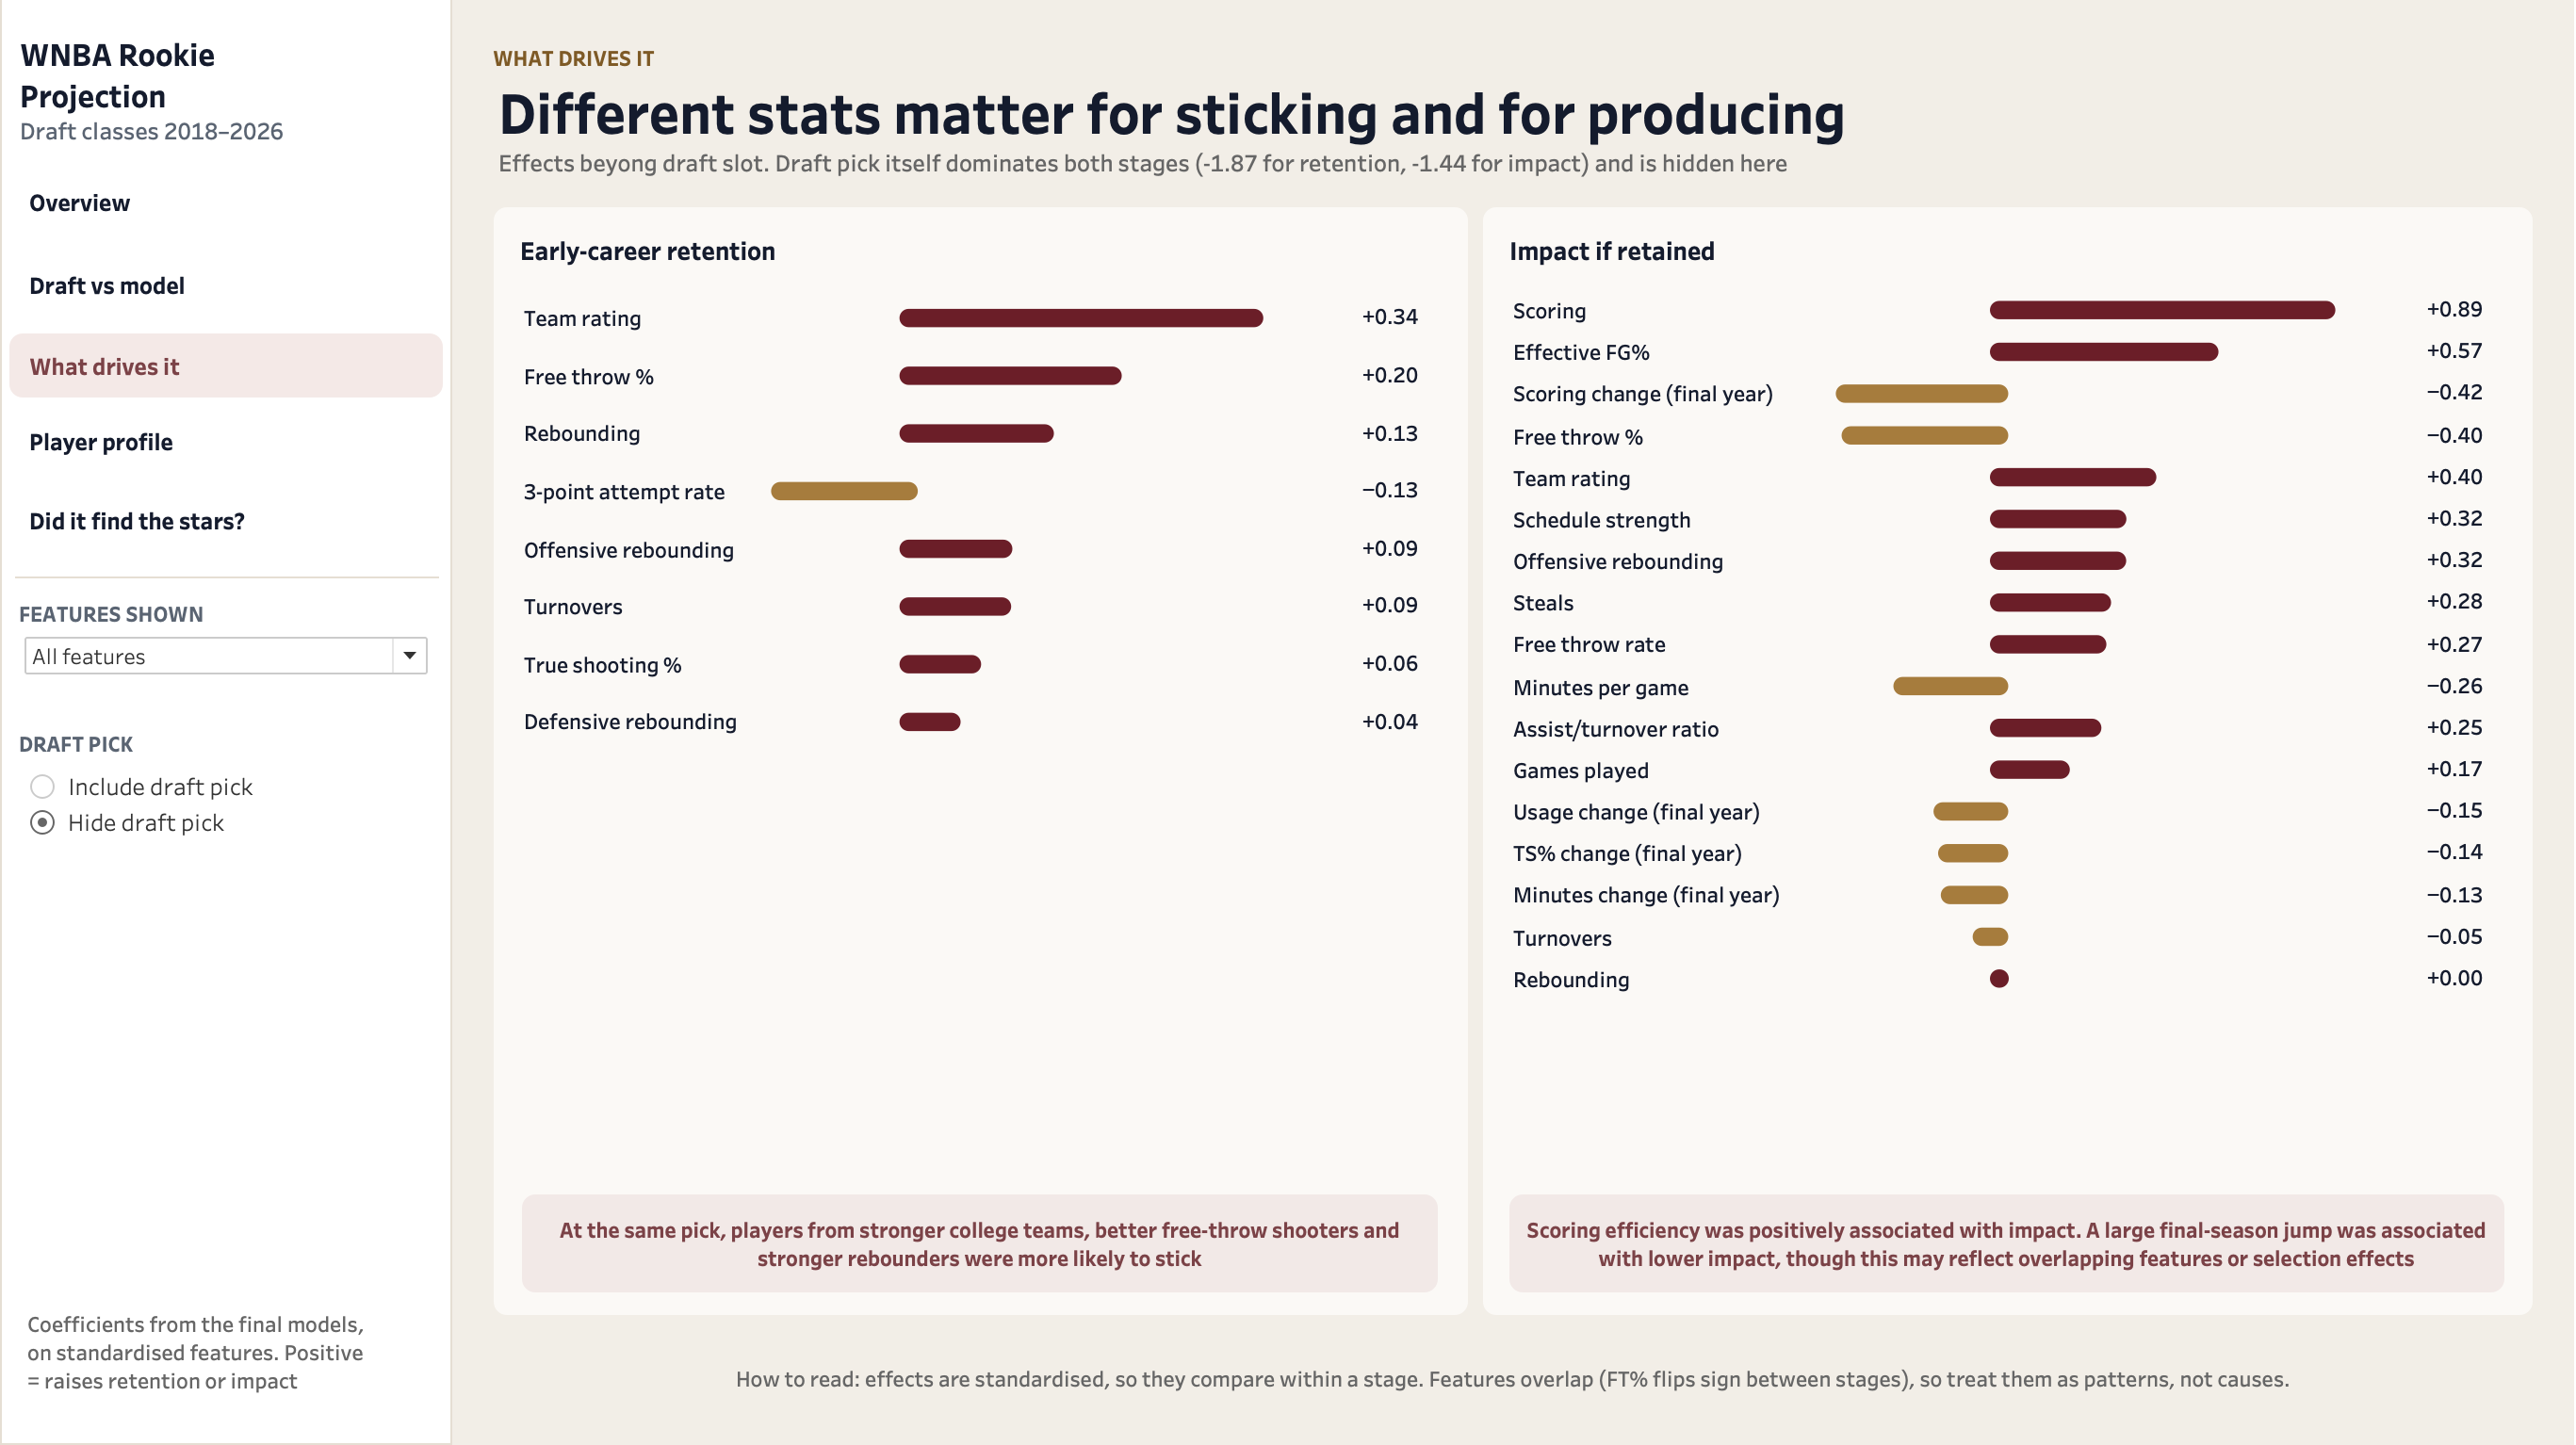

What the dashboard file says about the page in this screenshot:
{"tool":"tableau","page":{"name":"What drives it","canvas":[1366,768],"ordinal":4},"visuals":[{"type":"text","box":[240,0,1126,40]},{"type":"text","box":[1,1,238,85]},{"type":"legend","title":"Retention drivers","param":"[federated.0mjbtwg08ajieb14rdsi80g58q8k].[none:Direction:nk]","box":[1198,8,160,64]},{"type":"text","box":[240,40,1126,61]},{"type":"text","box":[1,86,238,44]},{"type":"dashboard-object","box":[7,90,229,38]},{"type":"worksheet","title":"Retention drivers","mark":"Automatic","rows":["Feature"],"cols":["Calculation_1981855960186886"],"box":[258,107,525,596]},{"type":"worksheet","title":"Impact drivers","mark":"Automatic","rows":["Feature"],"cols":["Calculation_1981855960186886"],"box":[783,107,565,596]},{"type":"text","box":[1,130,238,44]},{"type":"dashboard-object","box":[5,134,229,38]},{"type":"text","box":[1,174,238,42]},{"type":"dashboard-object","box":[5,178,229,38]},{"type":"text","box":[1,216,238,39]},{"type":"dashboard-object","box":[5,216,229,39]},{"type":"text","box":[1,255,238,44]},{"type":"dashboard-object","box":[5,255,229,45]},{"type":"parameter","param":"[Parameters].[Parameter 1981856626249759]","box":[1,299,238,85]},{"type":"blank","box":[8,307,225,1]},{"type":"parameter","param":"[Parameters].[Parameter 1981856627257376]","box":[1,384,238,77]},{"type":"text","box":[273,631,494,60]},{"type":"text","box":[797,631,536,60]},{"type":"text","box":[1,692,238,53]},{"type":"text","box":[240,721,1126,40]}]}

Visuals, with their boxes in screenshot pixels (x1, y1, x2, y2), scaled from the page's 1366x768 canvas onto the 2576x1445 screenshot:
text: bbox=(452, 0, 2575, 75)
text: bbox=(2, 2, 450, 162)
"Retention drivers" legend: bbox=(2259, 15, 2561, 136)
text: bbox=(452, 75, 2575, 190)
text: bbox=(2, 162, 450, 245)
dashboard-object: bbox=(13, 170, 445, 241)
"Retention drivers" worksheet: bbox=(486, 202, 1476, 1323)
"Impact drivers" worksheet: bbox=(1476, 202, 2542, 1323)
text: bbox=(2, 245, 450, 328)
dashboard-object: bbox=(9, 252, 441, 324)
text: bbox=(2, 328, 450, 406)
dashboard-object: bbox=(9, 335, 441, 406)
text: bbox=(2, 406, 450, 479)
dashboard-object: bbox=(9, 406, 441, 479)
text: bbox=(2, 479, 450, 562)
dashboard-object: bbox=(9, 479, 441, 564)
parameter: bbox=(2, 562, 450, 722)
blank: bbox=(15, 577, 439, 579)
parameter: bbox=(2, 722, 450, 868)
text: bbox=(514, 1187, 1446, 1300)
text: bbox=(1503, 1187, 2514, 1300)
text: bbox=(2, 1302, 450, 1402)
text: bbox=(452, 1356, 2575, 1432)
